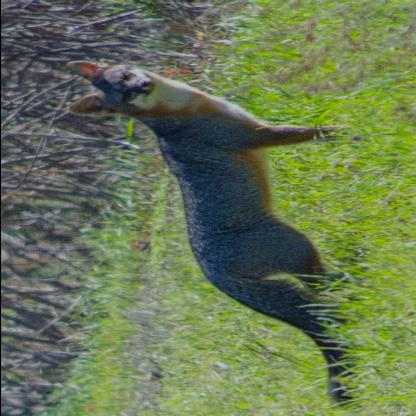zorro: (64, 48, 364, 412)
